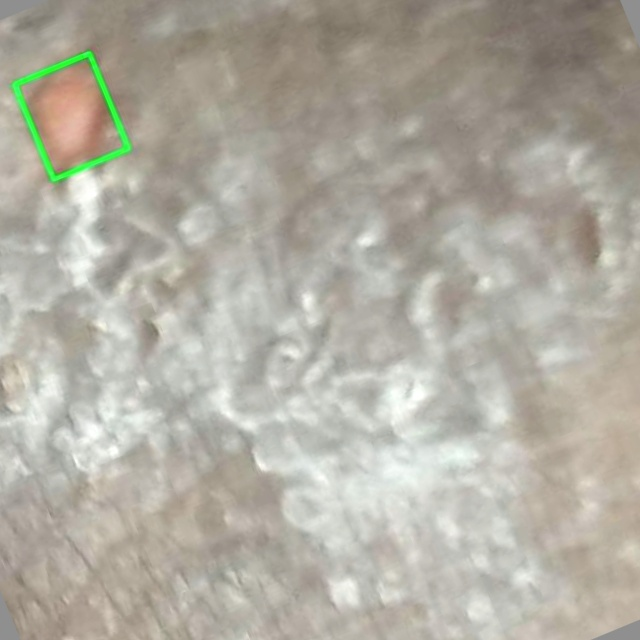Eczema: (14, 53, 128, 179)
